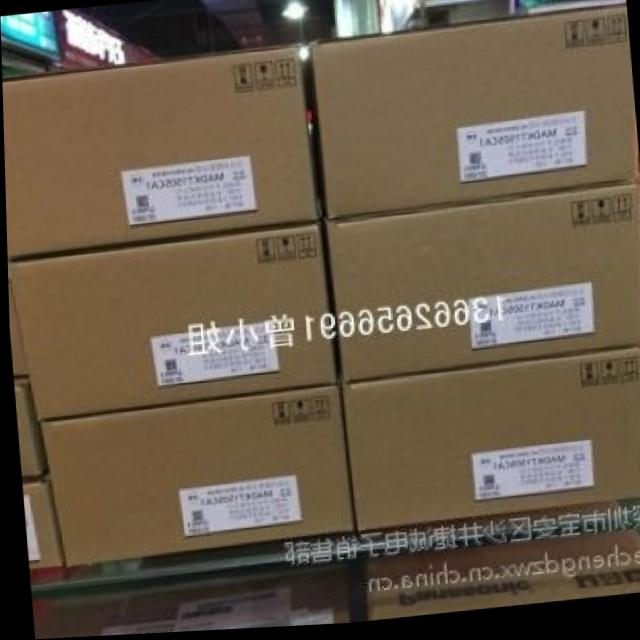box: (306, 10, 637, 224), (2, 46, 320, 258), (6, 225, 334, 420), (322, 191, 640, 388), (37, 387, 351, 569), (339, 352, 640, 536), (21, 471, 60, 569), (13, 376, 43, 478)
